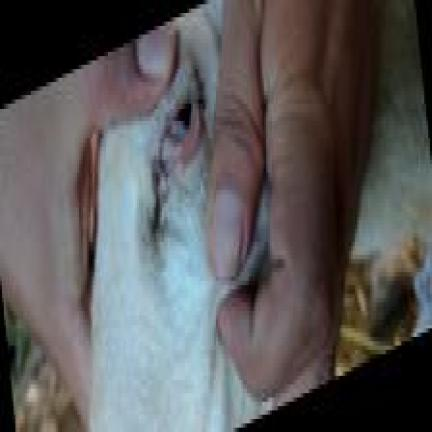goat-eye-anemia-22222222: (152, 104, 206, 173)
